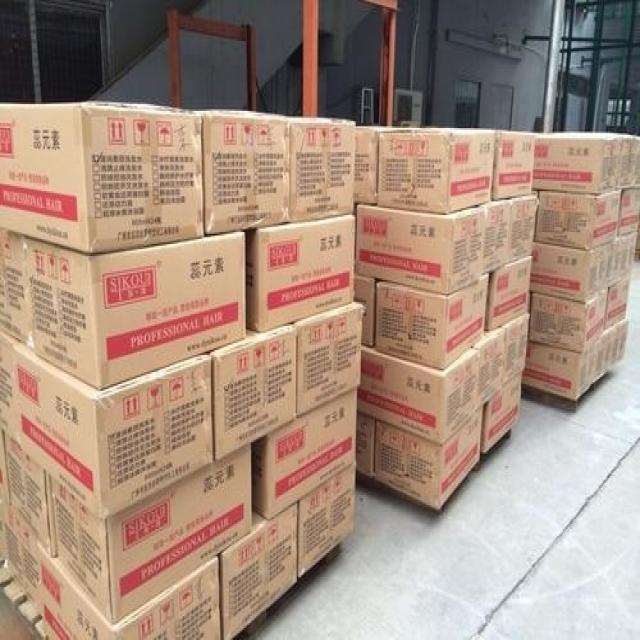box: (0, 326, 214, 522), (0, 229, 246, 386), (48, 439, 255, 624), (0, 103, 204, 255), (43, 552, 223, 638), (254, 384, 358, 519), (246, 214, 355, 332), (353, 201, 486, 296), (356, 343, 480, 444), (374, 402, 484, 511), (208, 323, 295, 458), (375, 273, 493, 369), (219, 501, 300, 638), (202, 110, 290, 235), (377, 129, 495, 213), (295, 300, 363, 416), (0, 429, 54, 554), (289, 119, 355, 221), (298, 463, 356, 579), (526, 333, 608, 403), (531, 237, 619, 299), (531, 137, 620, 196), (534, 189, 622, 248), (528, 288, 610, 351), (8, 505, 52, 616), (483, 372, 524, 453), (490, 129, 536, 200), (489, 255, 532, 330), (475, 326, 503, 413), (497, 314, 528, 384), (354, 125, 380, 203), (483, 200, 509, 278), (509, 192, 535, 261), (352, 271, 376, 345), (608, 277, 631, 333), (356, 412, 374, 480), (615, 134, 633, 191), (605, 322, 626, 370), (617, 232, 638, 278), (620, 188, 639, 237), (0, 493, 9, 565), (630, 135, 639, 186)
